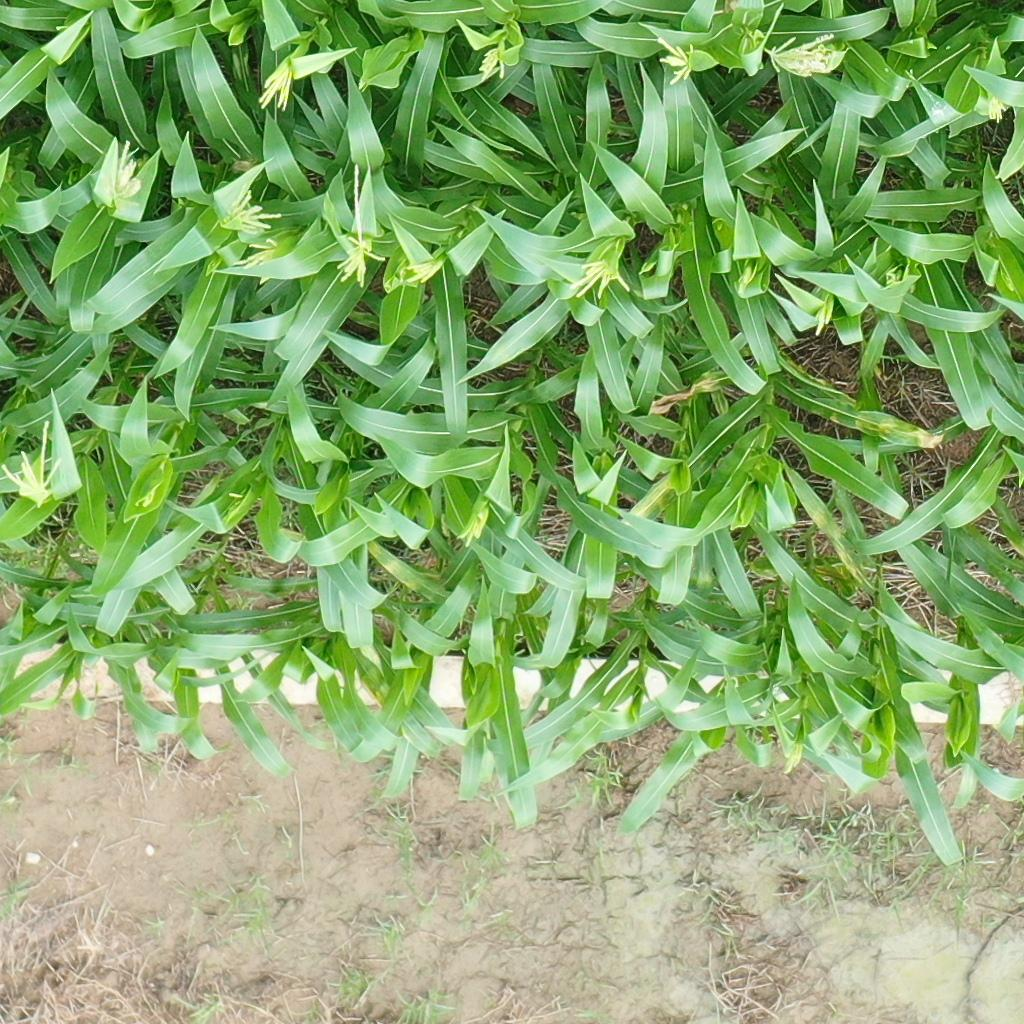Tassel: (326, 157, 387, 290), (752, 3, 842, 77), (2, 419, 75, 507), (218, 188, 280, 288), (568, 254, 634, 300), (107, 137, 146, 206), (253, 58, 297, 114), (454, 505, 499, 548), (654, 35, 691, 85), (406, 256, 449, 286), (477, 44, 506, 83), (981, 88, 1008, 123), (808, 304, 835, 336), (779, 741, 805, 773), (131, 485, 165, 509), (735, 266, 752, 295), (884, 266, 904, 290)
